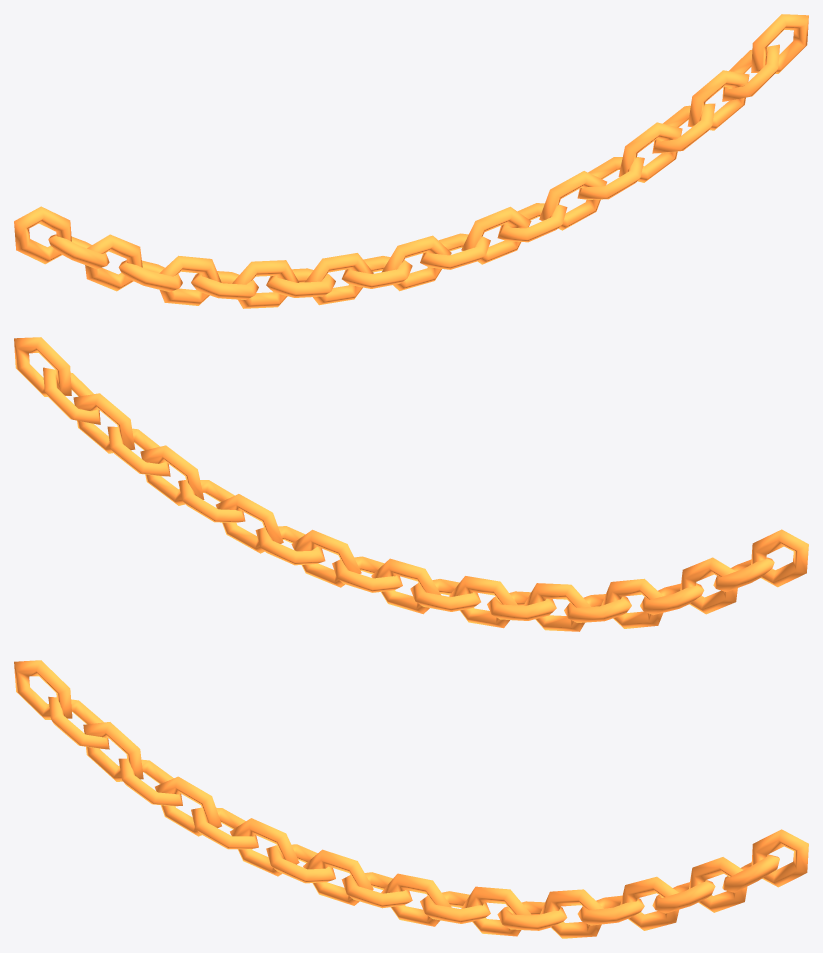
File: chain_001.glb
3 views of the same model, one above another, from view 1: azimuth 30°, elevation 25°; view 2: azimuth 150°, elevation 25°; view 3: azimuth 330°, elevation 25° (orthographic).
Parts seen in each view (by area): view 1: chain_001; view 2: chain_001; view 3: chain_001.
Boxes of the visible parts, x1,y1,x2,y2 form: chain_001: (14,14,808,308); chain_001: (14,337,808,631); chain_001: (14,660,808,938).
Size of the model in its own units: 10.35 by 2.29 by 0.5723.
1 material, 1 textured.
